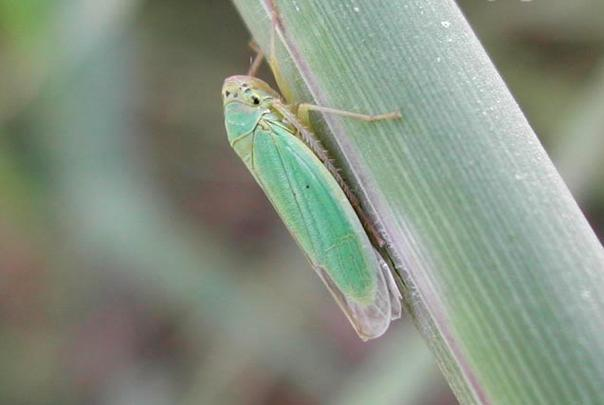Cicadellidae: (219, 75, 405, 343)
